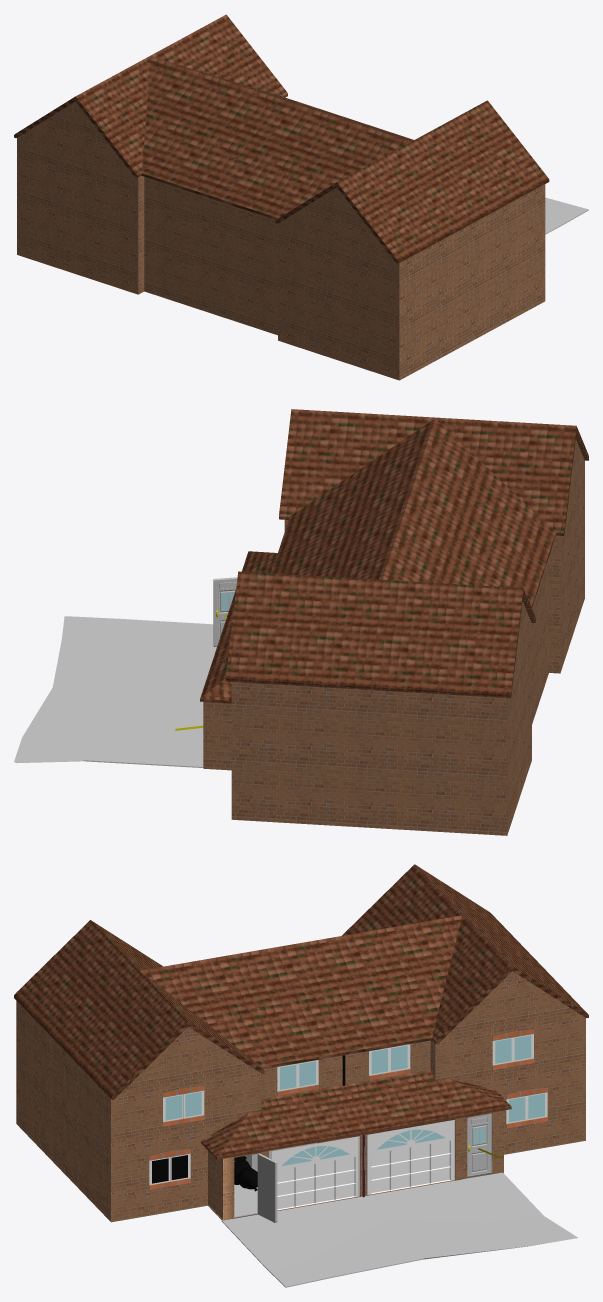
File: OpenHouse.fbx
3 renders of one model, top to bottom at view 1: azimuth 30°, elevation 25°; view 2: azimuth 150°, elevation 25°; view 3: azimuth 270°, elevation 25°, orthographic. The views are drawn at different scales.
Parts seen in each view (by area): view 1: HouseBody.004, SideRoofs.004, MidRoof.004, Drive.011; view 2: HouseBody.004, SideRoofs.004, MidRoof.004, Drive.011, MidDownRoof.004, Garage.008, Door.001; view 3: HouseBody.004, SideRoofs.004, MidRoof.004, Drive.011, MidDownRoof.004, Garage.009, Garage.008, Door.003, Door.001, HouseWindow.004, WindowRidge.014, WindowRidge.013 (+10 smaller).
Boxes of the visible parts, x1,y1,x2,y2 form: HouseBody.004: (17,101,545,380); SideRoofs.004: (14,14,549,263); MidRoof.004: (141,56,413,219); Drive.011: (545,197,588,234); HouseBody.004: (231,439,584,835); SideRoofs.004: (225,409,588,698); MidRoof.004: (271,418,555,607); Drive.011: (14,616,216,767); MidDownRoof.004: (200,551,277,703); Garage.008: (203,701,231,770); Door.001: (213,577,237,646); HouseBody.004: (16,971,585,1222); SideRoofs.004: (14,864,588,1099); MidRoof.004: (140,915,462,1068); Drive.011: (221,1172,577,1287); MidDownRoof.004: (201,1069,511,1159); Garage.009: (272,1120,454,1210); Garage.008: (208,1110,503,1220); Door.003: (467,1113,492,1177); Door.001: (257,1153,277,1222); HouseWindow.004: (281,1129,444,1166); WindowRidge.014: (163,1029,534,1126); WindowRidge.013: (149,1087,547,1189).
Size of the model in its own units: 4638 by 1693 by 4570.
